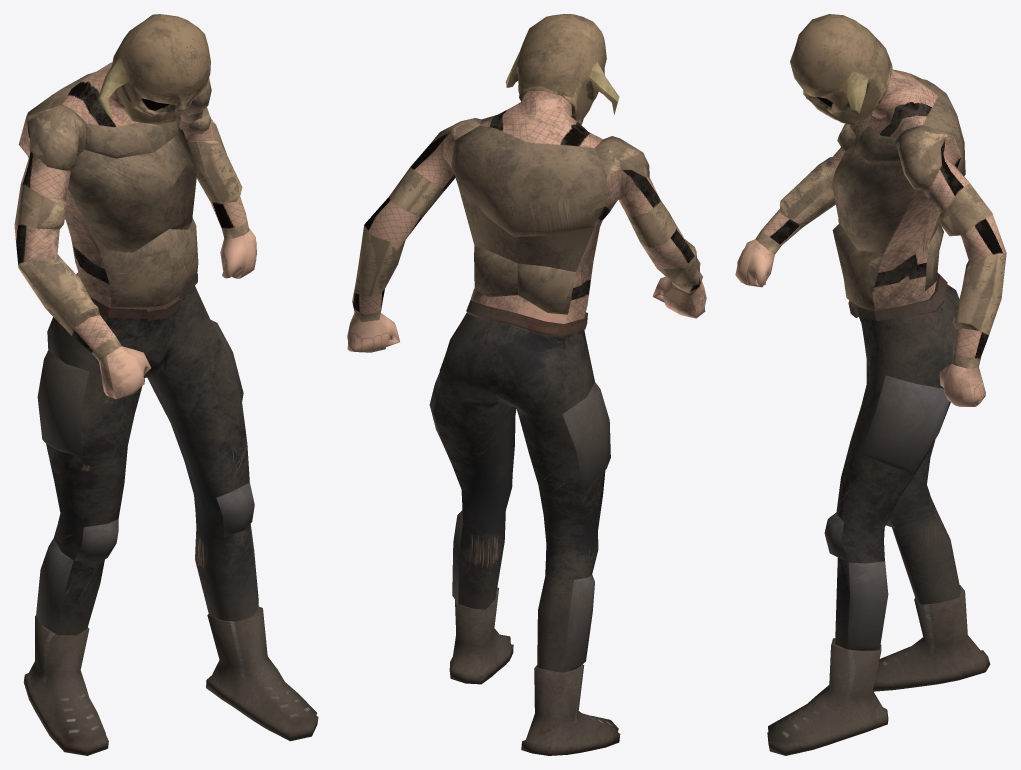
File: Anim_cogerobjeto_npc1.0035.obj
3 views of the same model, side by side, from view 1: azimuth 30°, elevation 25°; view 2: azimuth 150°, elevation 25°; view 3: azimuth 270°, elevation 25° (orthographic). The views are drawn at different scales.
Visible parts, largest first — view 1: NPC2; view 2: NPC2; view 3: NPC2.
Part boxes in pixels (x1,y1,x2,y2): NPC2: (14,14,318,755); NPC2: (347,14,706,755); NPC2: (735,14,1006,755).
Bounding box in the file's own units: 4.04 × 9.38 × 3.32.
